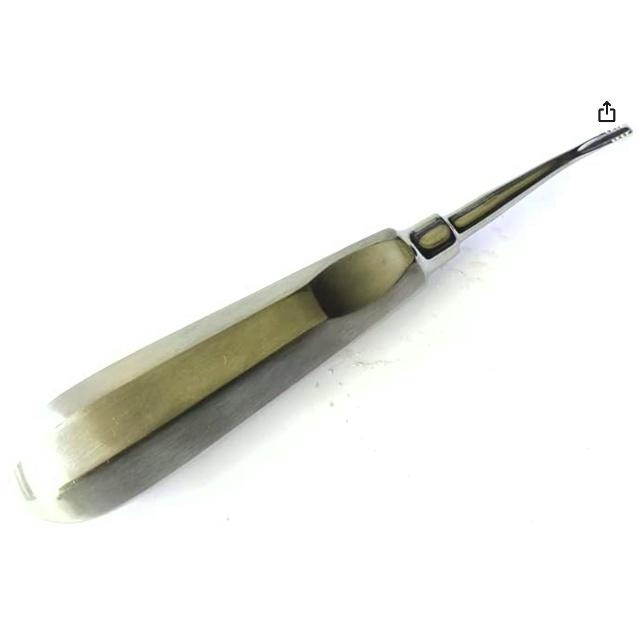botador: (9, 119, 636, 527), (11, 125, 632, 528)
forceps: (12, 70, 635, 547)
